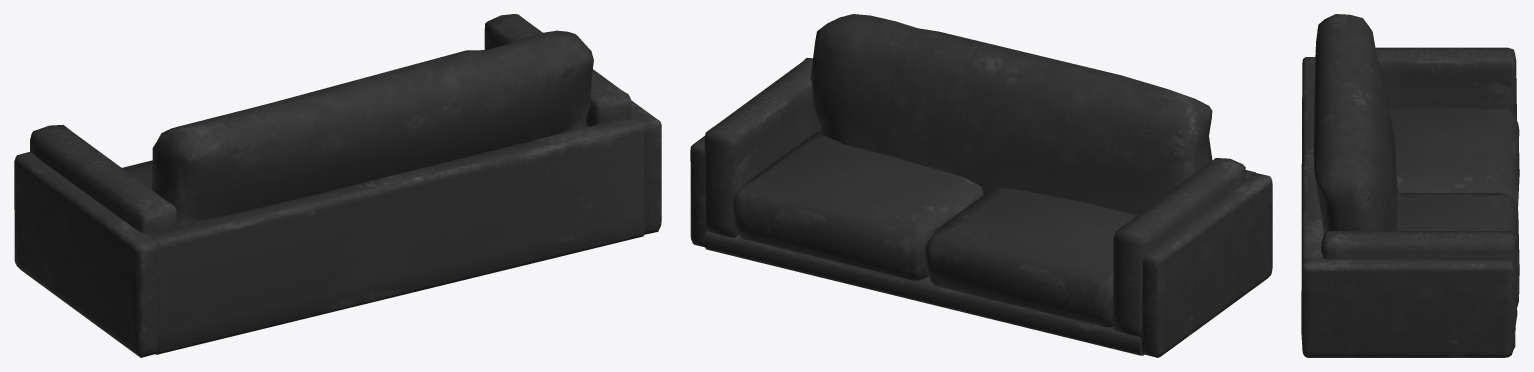
File: SM_Sofa_01.fbx
3 views of the same model, side by side, from view 1: azimuth 30°, elevation 25°; view 2: azimuth 150°, elevation 25°; view 3: azimuth 270°, elevation 25° (orthographic). The views are drawn at different scales.
Visible parts, largest first — view 1: SM_Sofa_01_LOD0; view 2: SM_Sofa_01_LOD0; view 3: SM_Sofa_01_LOD0.
Boxes of the visible parts, x1,y1,x2,y2 form: SM_Sofa_01_LOD0: (14, 14, 661, 357); SM_Sofa_01_LOD0: (690, 14, 1272, 357); SM_Sofa_01_LOD0: (1301, 14, 1519, 357).
Size of the model in its own units: 346 by 151 by 128.
1 material, 1 textured.
